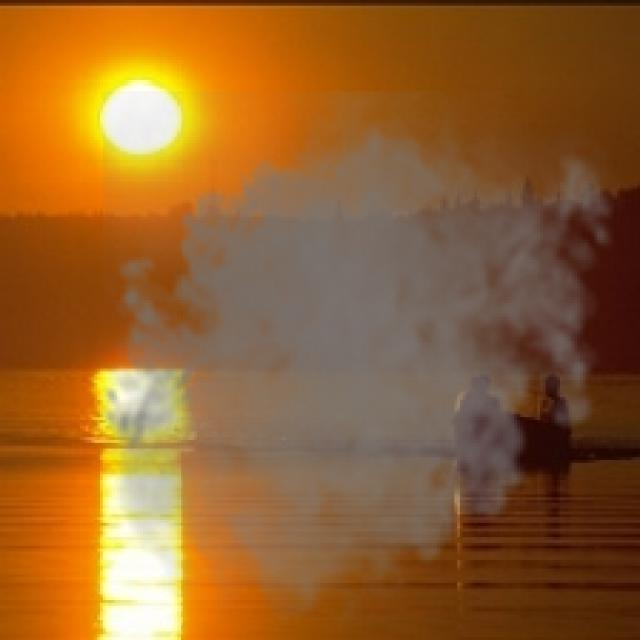Smoke: (91, 92, 632, 638)
